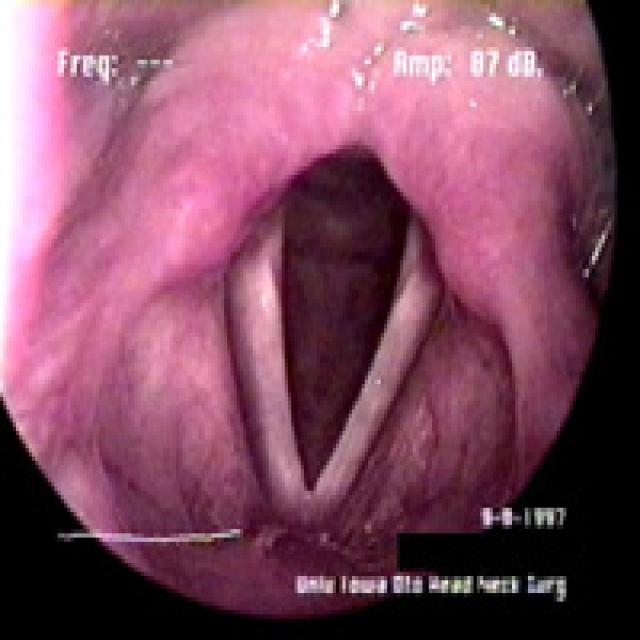arytenoid cartilagerotation: (122, 51, 555, 276)
larynxrotation: (222, 132, 440, 525)
